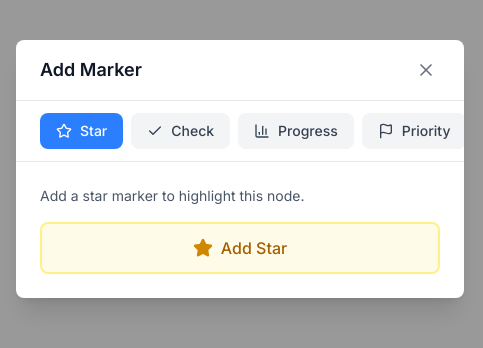
Test: MarkerPicker › switches between tabs
Step 1. Click the button "Progress" → (296, 131), box [238, 113, 354, 149]
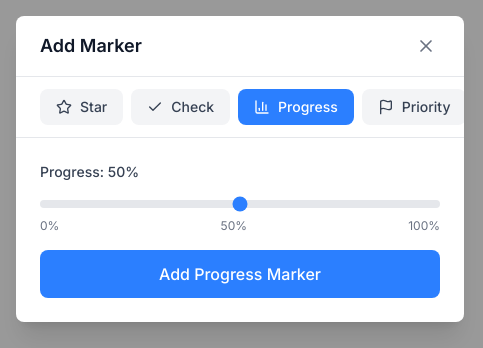
Expected: the text "Progress: 50%" is shown, [40, 163, 139, 180]
Step 2. Click the button "Priority" → (414, 107), box [362, 89, 466, 125]
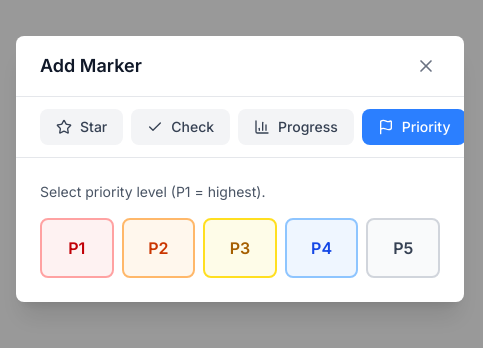
Expected: the button "P1" is shown, [40, 218, 114, 278]
